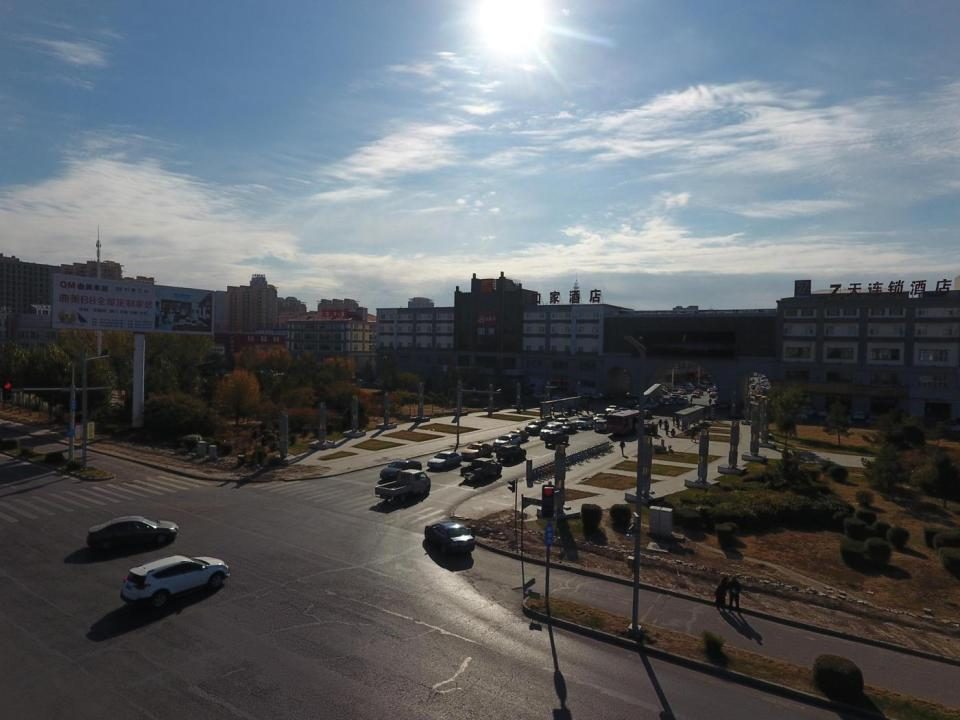bus: (607, 409, 644, 435)
car: (122, 554, 229, 608), (87, 517, 178, 553), (425, 521, 475, 554), (380, 459, 422, 479), (427, 450, 462, 470), (496, 443, 526, 463), (462, 442, 493, 459), (493, 433, 521, 450), (545, 432, 569, 448), (539, 424, 563, 439), (524, 420, 548, 434), (504, 429, 529, 441), (551, 419, 571, 432), (574, 415, 594, 428), (604, 410, 623, 423), (593, 420, 613, 432), (782, 412, 807, 420), (561, 422, 577, 434), (627, 404, 644, 415), (616, 408, 632, 418), (638, 410, 653, 420), (644, 402, 660, 411), (865, 412, 880, 421), (604, 406, 620, 413), (626, 400, 638, 408), (374, 380, 386, 388), (532, 392, 547, 398), (853, 412, 865, 419), (676, 397, 686, 405), (817, 409, 827, 417), (551, 395, 567, 400), (681, 382, 694, 388), (652, 399, 664, 405), (645, 398, 654, 406), (742, 394, 754, 400), (661, 382, 675, 387), (662, 398, 673, 404), (693, 389, 704, 395), (657, 386, 668, 392), (604, 394, 615, 400), (582, 392, 593, 398), (355, 379, 366, 385), (696, 386, 708, 391), (592, 393, 604, 398), (691, 382, 702, 387), (691, 392, 700, 398), (709, 392, 718, 398), (375, 376, 384, 382), (670, 392, 680, 397), (680, 395, 688, 401), (751, 390, 763, 394), (666, 396, 677, 400), (700, 384, 711, 388), (758, 385, 769, 389), (678, 389, 686, 394), (758, 386, 768, 390), (670, 394, 679, 398), (708, 388, 714, 393), (751, 384, 756, 389), (760, 388, 768, 391), (761, 379, 766, 383), (761, 376, 767, 379), (750, 378, 754, 382), (754, 374, 758, 377)
truck: (375, 468, 430, 500), (460, 457, 501, 478), (668, 386, 684, 391)
van: (654, 387, 668, 395), (803, 405, 813, 416), (754, 395, 764, 402), (761, 396, 767, 404), (752, 390, 758, 395)
